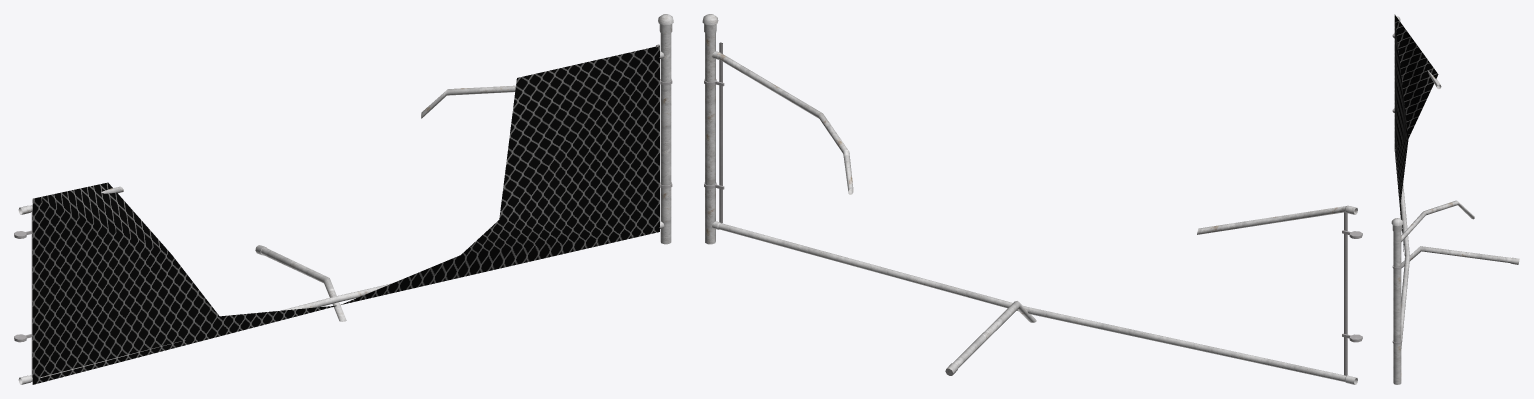
The model's file is ChainlinkFence_Short_C.fbx.
3 renders of one model, left to right at view 1: azimuth 30°, elevation 25°; view 2: azimuth 150°, elevation 25°; view 3: azimuth 270°, elevation 25°, orthographic. The views are drawn at different scales.
Visible parts, largest first — view 1: ChainlinkFence_Short_C_LOD0; view 2: ChainlinkFence_Short_C_LOD0; view 3: ChainlinkFence_Short_C_LOD0.
Boxes of the visible parts, x1,y1,x2,y2 form: ChainlinkFence_Short_C_LOD0: [14, 14, 673, 384]; ChainlinkFence_Short_C_LOD0: [702, 14, 1362, 384]; ChainlinkFence_Short_C_LOD0: [1391, 14, 1519, 384].
Size of what is drawn, in the model's own units: 510 by 168 by 119.
